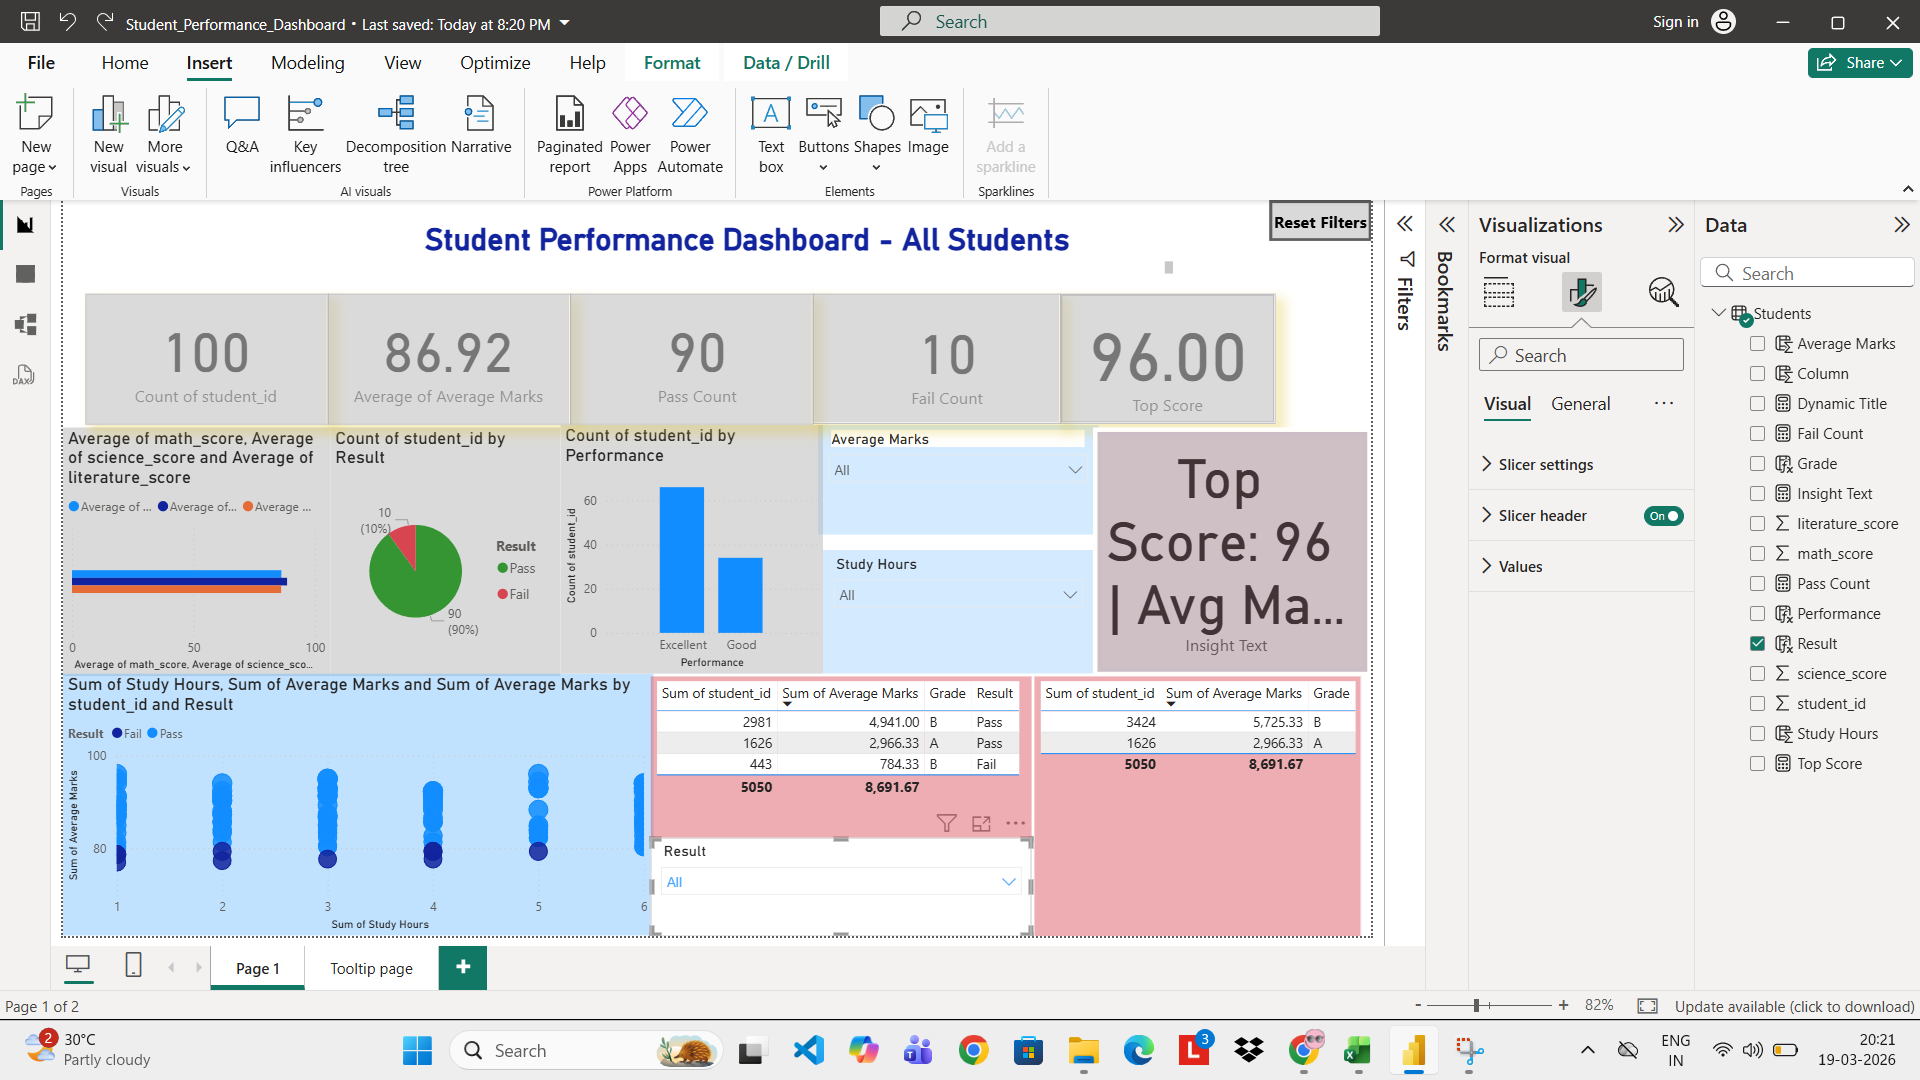

The dashboard page shown, as its layout file describes it:
{"tool":"powerbi","page":{"name":"Page 1","canvas":[1280,720],"ordinal":0},"visuals":[{"type":"card","fields":{"Values":["CountNonNull(Students.student_id)"]},"box":[0,91.7,280,123.5],"z":0},{"type":"card","fields":{"Values":["Avg(Students.Average Marks)"]},"box":[237.2,91.7,280,123.5],"z":1000},{"type":"card","fields":{"Values":["Students.Pass Count"]},"box":[480.6,91.7,280,123.5],"z":2000},{"type":"card","fields":{"Values":["Students.Fail Count"]},"box":[733.7,91.7,262.9,127.2],"z":3000},{"type":"clusteredBarChart","fields":{"Y":["Avg(Students.math_score)","Avg(Students.science_score)","Avg(Students.literature_score)"]},"box":[0,222.6,261.7,243.3],"z":4000},{"type":"pieChart","fields":{"Category":["Students.Result"],"Y":["CountNonNull(Students.student_id)"]},"box":[261.7,222.6,225,243.3],"z":5000},{"type":"scatterChart","fields":{"X":["Sum(Students.Study Hours)"],"Y":["Sum(Students.Average Marks)"],"Size":["Sum(Students.Average Marks)"],"Category":["Students.student_id"],"Series":["Students.Result"]},"box":[0,463.3,577.4,256],"z":6000},{"type":"tableEx","fields":{"Values":["Sum(Students.student_id)","Sum(Students.Average Marks)","Students.Grade"]},"box":[950.1,465.9,319.2,254.3],"z":7000},{"type":"slicer","fields":{"Values":["Students.Result"]},"box":[574.7,623.6,373,96.6],"z":8000},{"type":"slicer","fields":{"Values":["Students.Average Marks"]},"box":[738.8,219.8,274.1,107.1],"z":9000},{"type":"slicer","fields":{"Values":["Students.Study Hours"]},"box":[743.5,342.4,264.1,121.1],"z":10000},{"type":"textbox","box":[248.2,20.8,842.5,56.3],"z":11000},{"type":"tableEx","fields":{"Values":["Sum(Students.student_id)","Sum(Students.Average Marks)","Students.Grade","Students.Result"]},"box":[574.7,465.9,373,157.7],"z":12000},{"type":"clusteredColumnChart","fields":{"Category":["Students.Performance"],"Y":["CountNonNull(Students.student_id)"]},"box":[486.7,220.1,256.8,243.3],"z":13000},{"type":"card","title":"Top Score","fields":{"Values":["Students.Top Score"]},"box":[975.8,91.7,210.3,127.2],"z":14000},{"type":"shape","box":[22,91.7,237.2,128.4],"z":15000},{"type":"shape","box":[259.2,91.7,237.2,128.4],"z":16000},{"type":"shape","box":[496.5,91.7,237.2,128.4],"z":17000},{"type":"shape","box":[733.7,91.7,242.1,127.2],"z":18000},{"type":"shape","box":[975.8,91.7,210.3,127.2],"z":19000},{"type":"actionButton","box":[1180,0,100.3,40.4],"z":20000},{"type":"card","fields":{"Values":["Students.Insight Text"]},"box":[1007.6,222.6,261.7,228.7],"z":21000},{"type":"shape","box":[1007.6,222.6,272.7,243.3],"z":22000},{"type":"shape","box":[1007.6,222.6,272.7,243.3],"z":23000}]}

Visuals, with their boxes on the page's 1280x720 design canvas (x1, y1, x2, y2). These are canvas units, not pixel positions in the 1920x1080 screenshot, which may show the page scaled, cropped or inside an application window:
card - CountNonNull(Students.student_id): rect(0, 92, 280, 215)
card - Avg(Students.Average Marks): rect(237, 92, 517, 215)
card - Students.Pass Count: rect(481, 92, 761, 215)
card - Students.Fail Count: rect(734, 92, 997, 219)
clusteredBarChart - Avg(Students.math_score) x Avg(Students.science_score): rect(0, 223, 262, 466)
pieChart - Students.Result x CountNonNull(Students.student_id): rect(262, 223, 487, 466)
scatterChart - Sum(Students.Study Hours) x Sum(Students.Average Marks): rect(0, 463, 577, 719)
tableEx - Sum(Students.student_id) x Sum(Students.Average Marks): rect(950, 466, 1269, 720)
slicer - Students.Result: rect(575, 624, 948, 720)
slicer - Students.Average Marks: rect(739, 220, 1013, 327)
slicer - Students.Study Hours: rect(744, 342, 1008, 464)
textbox: rect(248, 21, 1091, 77)
tableEx - Sum(Students.student_id) x Sum(Students.Average Marks): rect(575, 466, 948, 624)
clusteredColumnChart - Students.Performance x CountNonNull(Students.student_id): rect(487, 220, 744, 463)
"Top Score" card: rect(976, 92, 1186, 219)
shape: rect(22, 92, 259, 220)
shape: rect(259, 92, 496, 220)
shape: rect(496, 92, 734, 220)
shape: rect(734, 92, 976, 219)
shape: rect(976, 92, 1186, 219)
actionButton: rect(1180, 0, 1280, 40)
card - Students.Insight Text: rect(1008, 223, 1269, 451)
shape: rect(1008, 223, 1280, 466)
shape: rect(1008, 223, 1280, 466)
